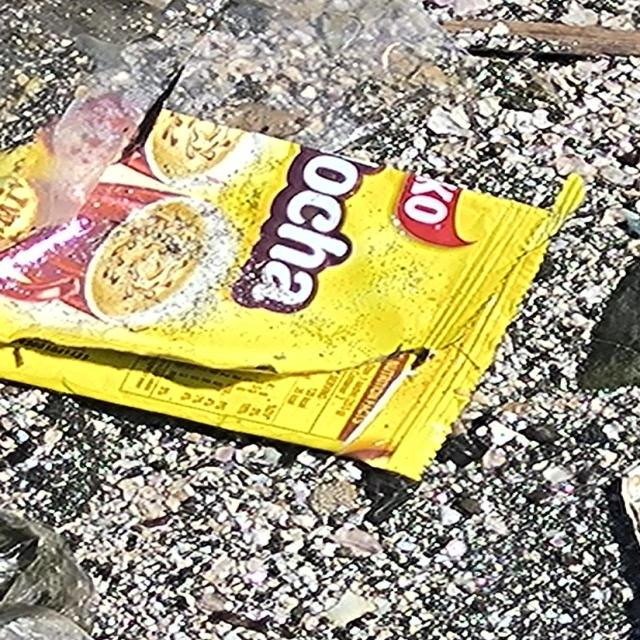plastic_waste: (0, 107, 592, 483)
